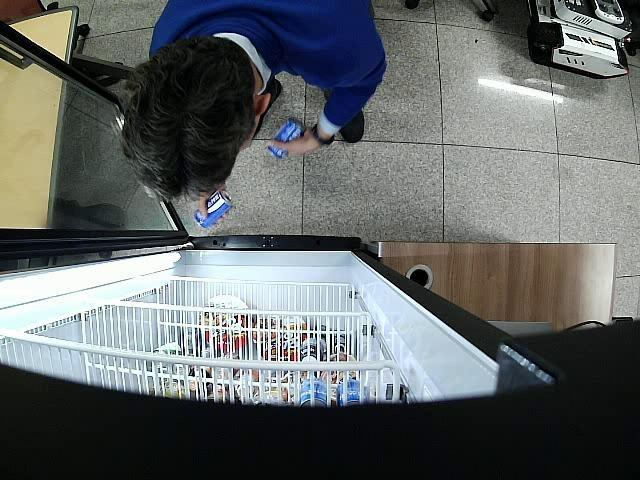13_pocariSweat: (268, 120, 305, 159), (195, 190, 232, 228)
